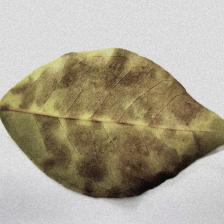canker: (18, 51, 178, 182)
